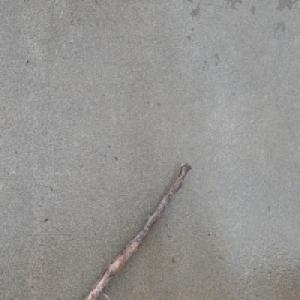Wood: (80, 159, 193, 300)
